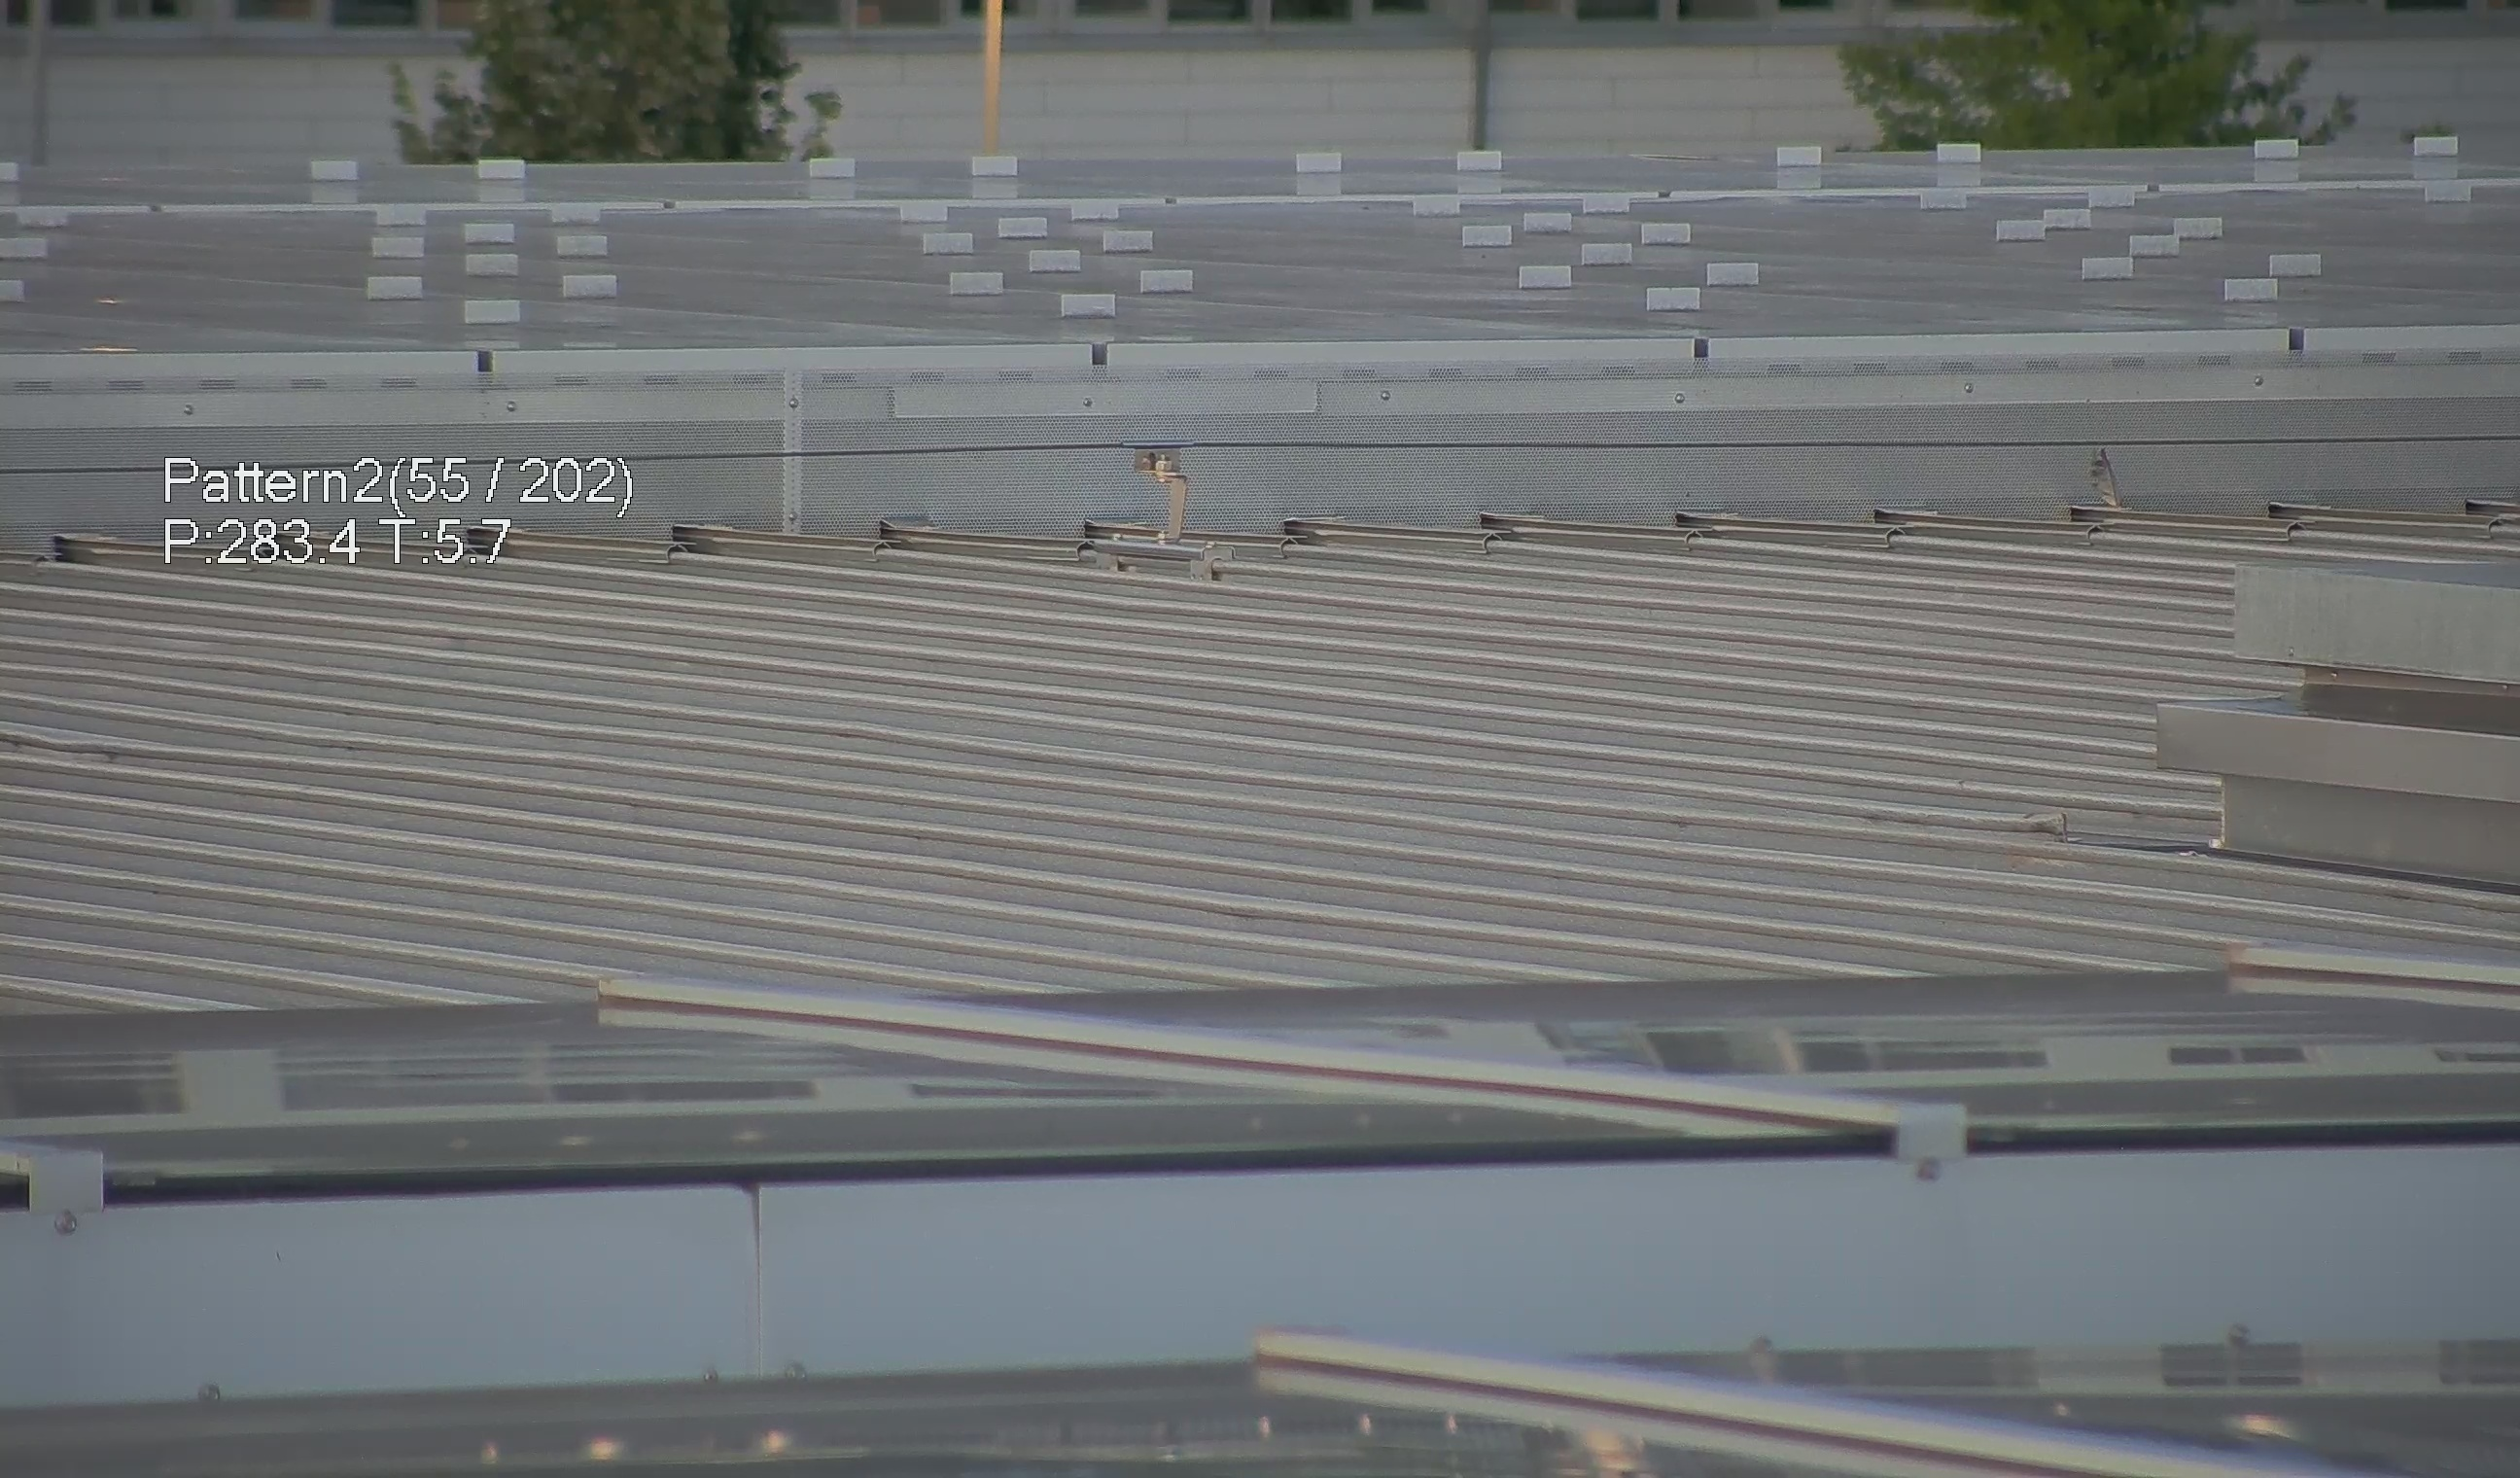Other: (2082, 431, 2137, 528)
